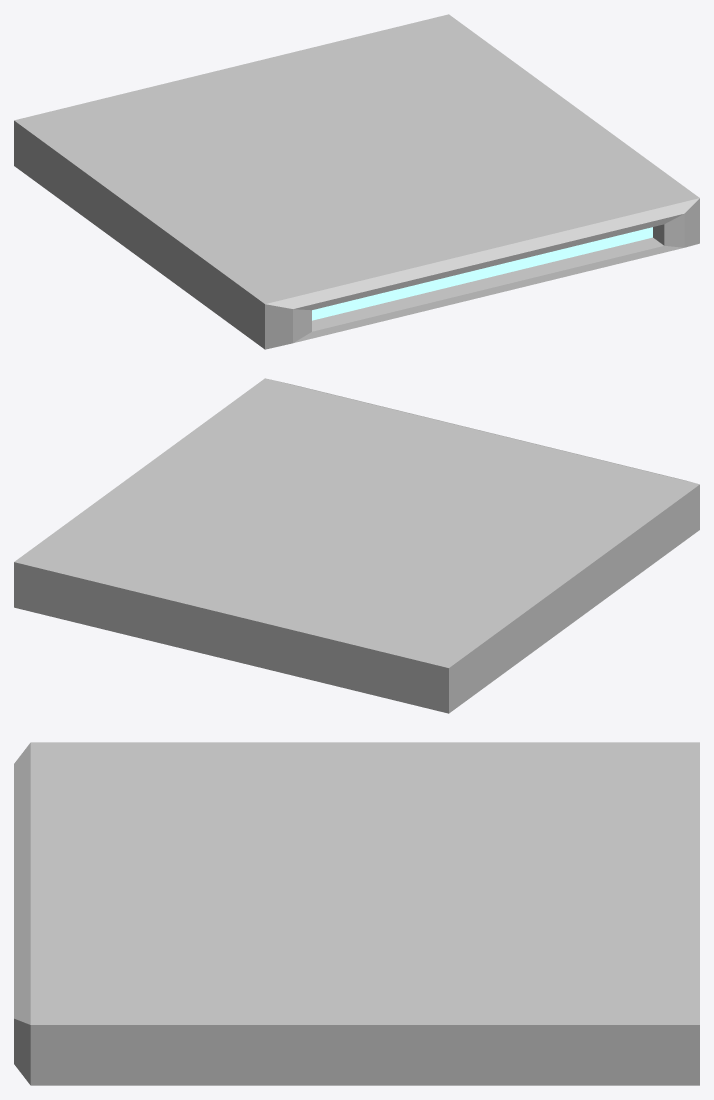
File: Tile.fbx
3 renders of one model, top to bottom at view 1: azimuth 30°, elevation 25°; view 2: azimuth 150°, elevation 25°; view 3: azimuth 270°, elevation 25°, orthographic. The views are drawn at different scales.
Visible parts, largest first — view 1: Main_Cube; view 2: Main_Cube; view 3: Main_Cube.
Part boxes in pixels (x1,y1,x2,y2): Main_Cube: (14, 14, 699, 349); Main_Cube: (14, 378, 699, 713); Main_Cube: (14, 742, 699, 1085).
Size of the model in its own units: 2 by 0.2 by 2.05.
